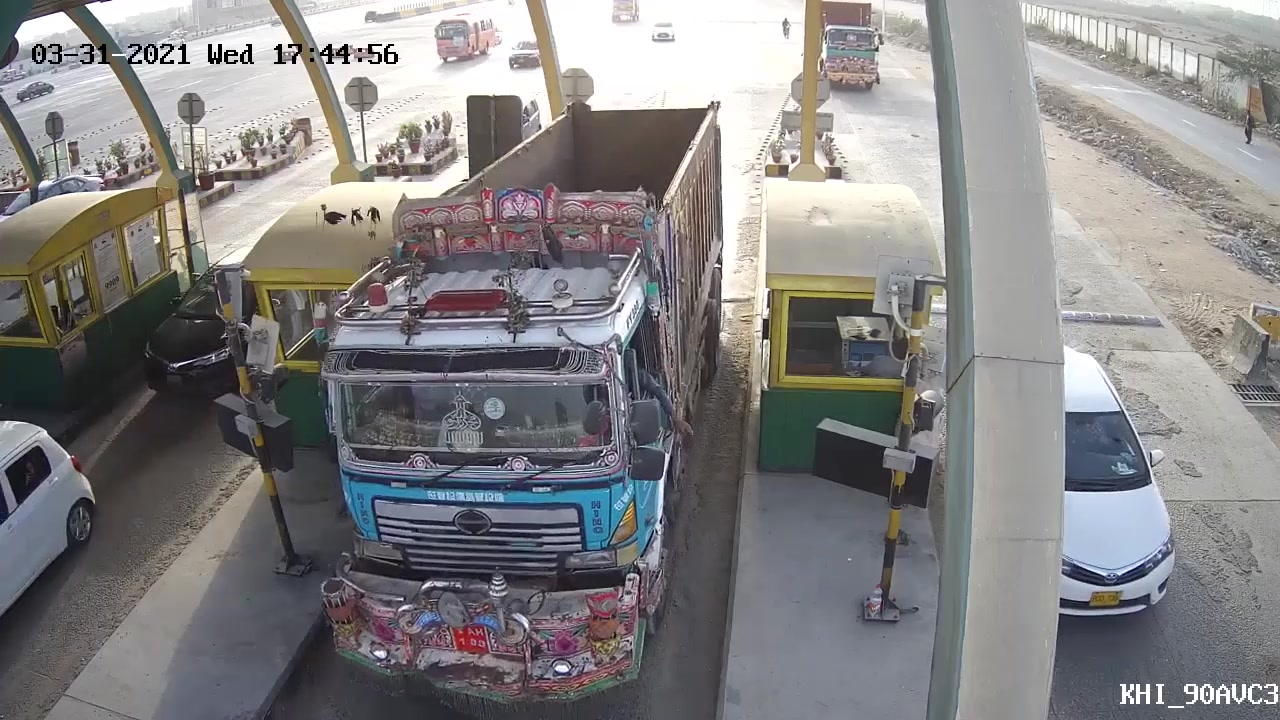F5: (318, 87, 734, 707)
